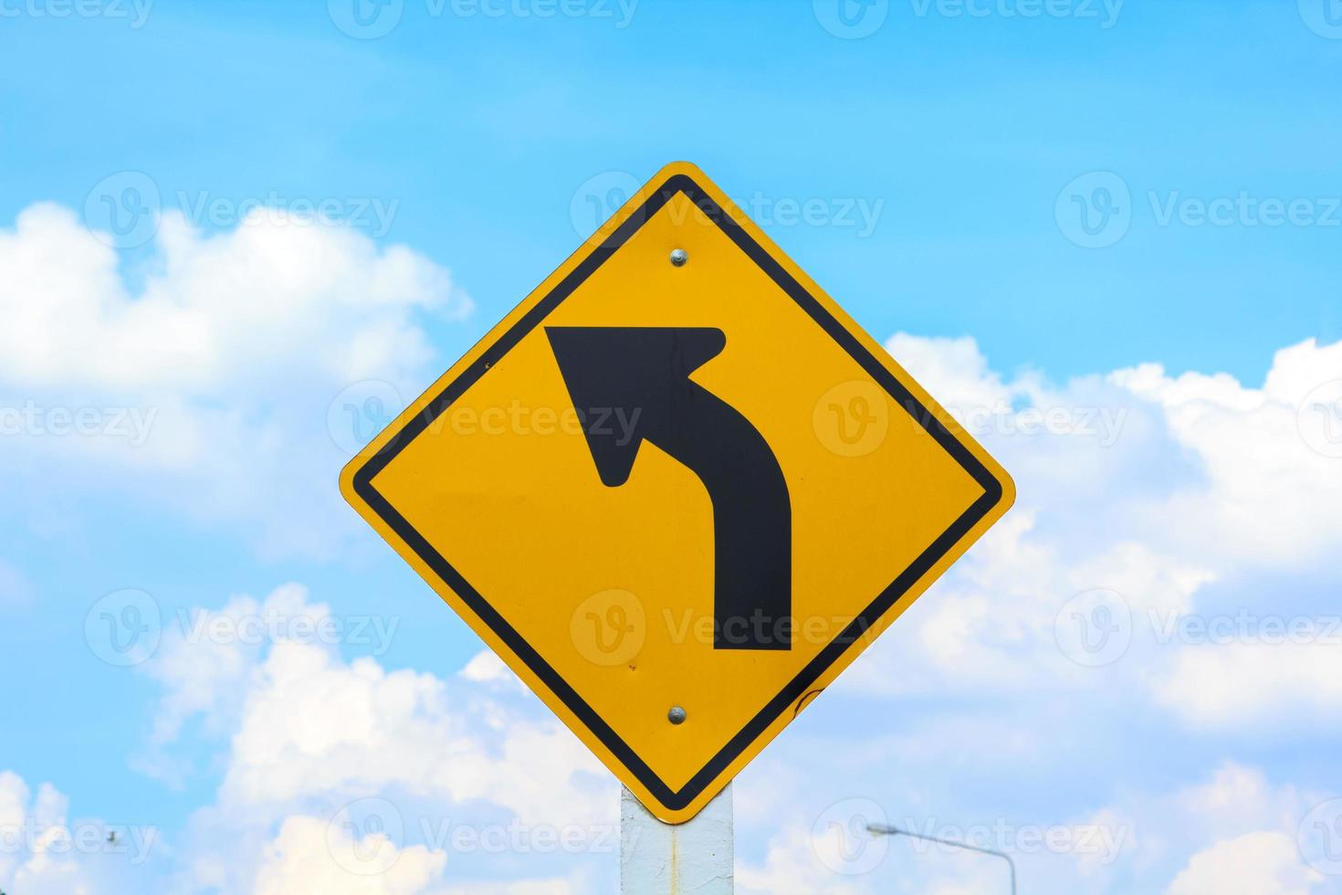Left Curve Ahead: (335, 483, 821, 895)
